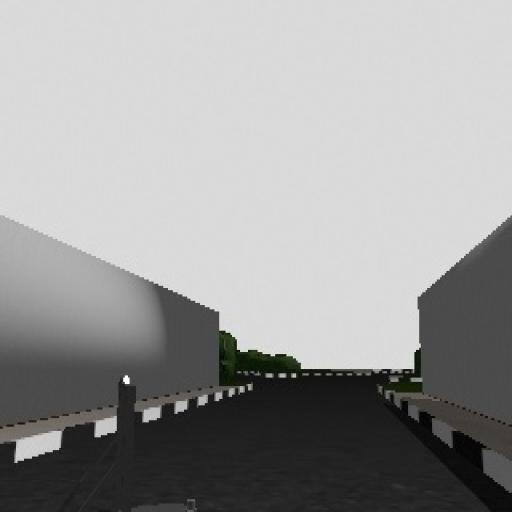huskya200: (32, 361, 205, 512)
